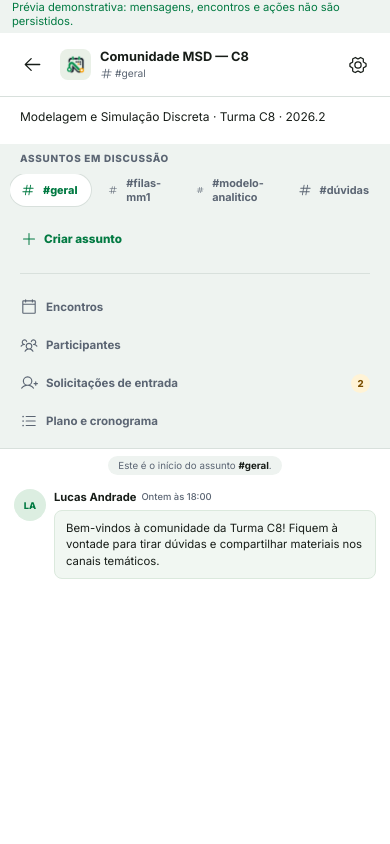
Test: GroupDetailView › exibe o painel do organizador para gerenciar grupo
Step 1. Click the button named "Gerenciar grupo" → [358, 64], box [340,46,376,82]
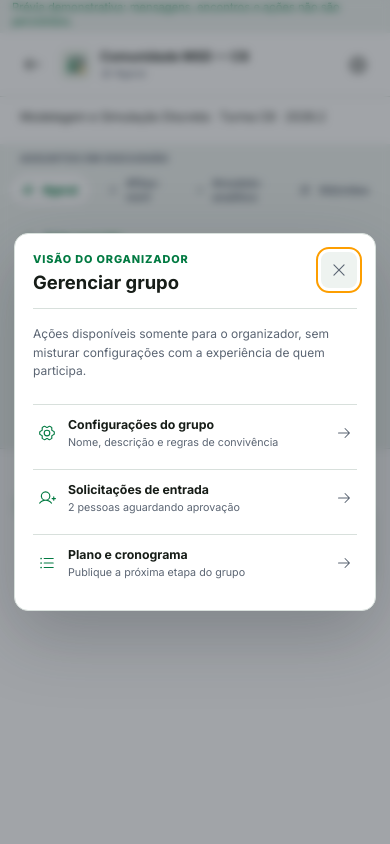
expect the dialog "Gerenciar grupo" is shown: met, box [14,233,376,611]
expect the text "Visão do organizador" is shown: met, box [33,252,189,266]
expect the text "Configurações do grupo" is shown: met, box [68,417,214,432]
